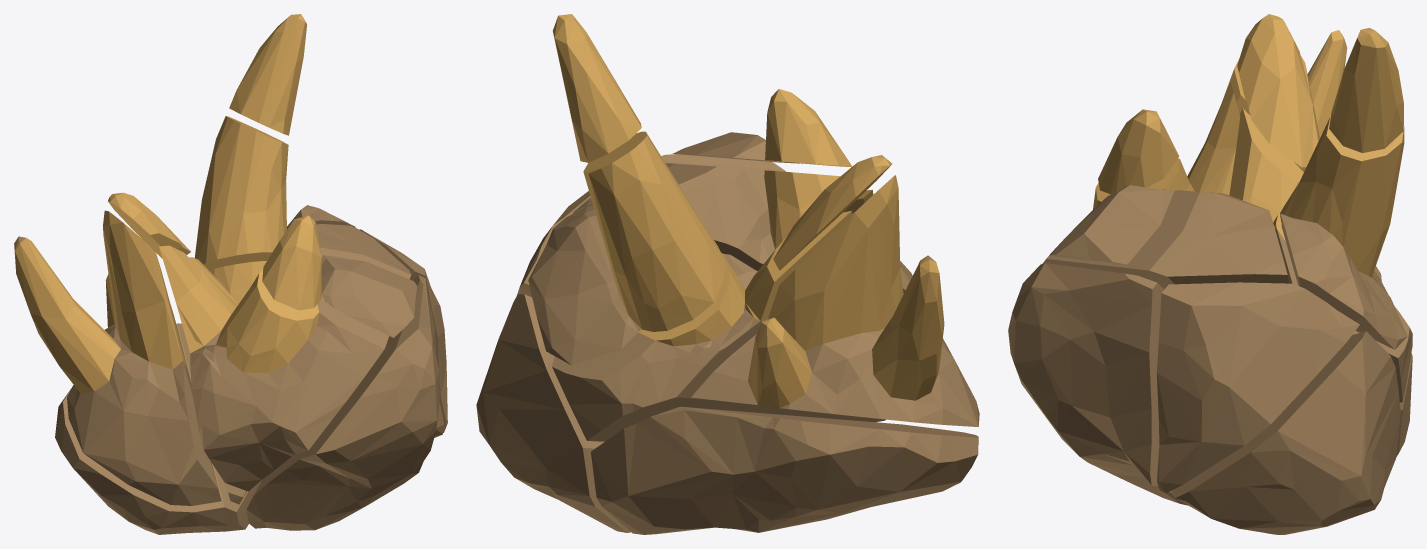
The model's file is SM_LP_FossilNode_6_Pieces.fbx.
3 views of the same model, side by side, from view 1: azimuth 30°, elevation 25°; view 2: azimuth 150°, elevation 25°; view 3: azimuth 270°, elevation 25° (orthographic). The views are drawn at different scales.
Parts seen in each view (by area): view 1: SM_LP_FossilNode_6_Pieces_4, SM_LP_FossilNode_6_Pieces_1, SM_LP_FossilNode_6_Pieces_9, SM_LP_FossilNode_6_Pieces_8, SM_LP_FossilNode_6_Pieces_3, SM_LP_FossilNode_6_Pieces_10, SM_LP_FossilNode_6_Pieces_6, SM_LP_FossilNode_6_Pieces_7, SM_LP_FossilNode_6_Pieces_2, SM_LP_FossilNode_6_Pieces_12, SM_LP_FossilNode_6_Pieces_5; view 2: SM_LP_FossilNode_6_Pieces_3, SM_LP_FossilNode_6_Pieces_1, SM_LP_FossilNode_6_Pieces_8, SM_LP_FossilNode_6_Pieces_5, SM_LP_FossilNode_6_Pieces_11, SM_LP_FossilNode_6_Pieces_4, SM_LP_FossilNode_6_Pieces_10, SM_LP_FossilNode_6_Pieces_7, SM_LP_FossilNode_6_Pieces_2, SM_LP_FossilNode_6_Pieces_6, SM_LP_FossilNode_6_Pieces_9, SM_LP_FossilNode_6_Pieces_12; view 3: SM_LP_FossilNode_6_Pieces_12, SM_LP_FossilNode_6_Pieces_9, SM_LP_FossilNode_6_Pieces_11, SM_LP_FossilNode_6_Pieces_8, SM_LP_FossilNode_6_Pieces_4, SM_LP_FossilNode_6_Pieces_2, SM_LP_FossilNode_6_Pieces_10, SM_LP_FossilNode_6_Pieces_5, SM_LP_FossilNode_6_Pieces_6, SM_LP_FossilNode_6_Pieces_7, SM_LP_FossilNode_6_Pieces_1, SM_LP_FossilNode_6_Pieces_3.
Boxes of the visible parts, <box> form: SM_LP_FossilNode_6_Pieces_4: <box>159,224,410,491</box>; SM_LP_FossilNode_6_Pieces_1: <box>14,210,221,505</box>; SM_LP_FossilNode_6_Pieces_9: <box>246,275,444,530</box>; SM_LP_FossilNode_6_Pieces_8: <box>194,116,355,270</box>; SM_LP_FossilNode_6_Pieces_3: <box>55,323,262,534</box>; SM_LP_FossilNode_6_Pieces_10: <box>229,14,306,135</box>; SM_LP_FossilNode_6_Pieces_6: <box>321,255,417,337</box>; SM_LP_FossilNode_6_Pieces_7: <box>262,215,321,310</box>; SM_LP_FossilNode_6_Pieces_2: <box>108,192,190,258</box>; SM_LP_FossilNode_6_Pieces_12: <box>360,229,447,432</box>; SM_LP_FossilNode_6_Pieces_5: <box>189,257,266,504</box>; SM_LP_FossilNode_6_Pieces_3: <box>591,406,978,534</box>; SM_LP_FossilNode_6_Pieces_1: <box>691,175,979,426</box>; SM_LP_FossilNode_6_Pieces_8: <box>528,131,725,365</box>; SM_LP_FossilNode_6_Pieces_5: <box>552,211,885,441</box>; SM_LP_FossilNode_6_Pieces_11: <box>476,294,630,532</box>; SM_LP_FossilNode_6_Pieces_4: <box>573,163,912,293</box>; SM_LP_FossilNode_6_Pieces_10: <box>553,14,641,162</box>; SM_LP_FossilNode_6_Pieces_7: <box>765,89,852,167</box>; SM_LP_FossilNode_6_Pieces_2: <box>773,155,892,270</box>; SM_LP_FossilNode_6_Pieces_6: <box>672,132,799,163</box>; SM_LP_FossilNode_6_Pieces_9: <box>661,154,786,171</box>; SM_LP_FossilNode_6_Pieces_12: <box>517,191,590,297</box>; SM_LP_FossilNode_6_Pieces_12: <box>1156,282,1359,493</box>; SM_LP_FossilNode_6_Pieces_9: <box>1008,263,1187,505</box>; SM_LP_FossilNode_6_Pieces_11: <box>1171,331,1400,534</box>; SM_LP_FossilNode_6_Pieces_8: <box>1280,116,1407,349</box>; SM_LP_FossilNode_6_Pieces_4: <box>1042,82,1288,289</box>; SM_LP_FossilNode_6_Pieces_2: <box>1237,14,1312,167</box>; SM_LP_FossilNode_6_Pieces_10: <box>1329,28,1403,152</box>; SM_LP_FossilNode_6_Pieces_5: <box>1229,108,1412,402</box>; SM_LP_FossilNode_6_Pieces_6: <box>1049,185,1174,264</box>; SM_LP_FossilNode_6_Pieces_7: <box>1098,109,1179,194</box>; SM_LP_FossilNode_6_Pieces_1: <box>1222,30,1382,288</box>; SM_LP_FossilNode_6_Pieces_3: <box>1374,266,1412,456</box>.
Size of the model in its own units: 0.8887 by 0.9679 by 0.702.
